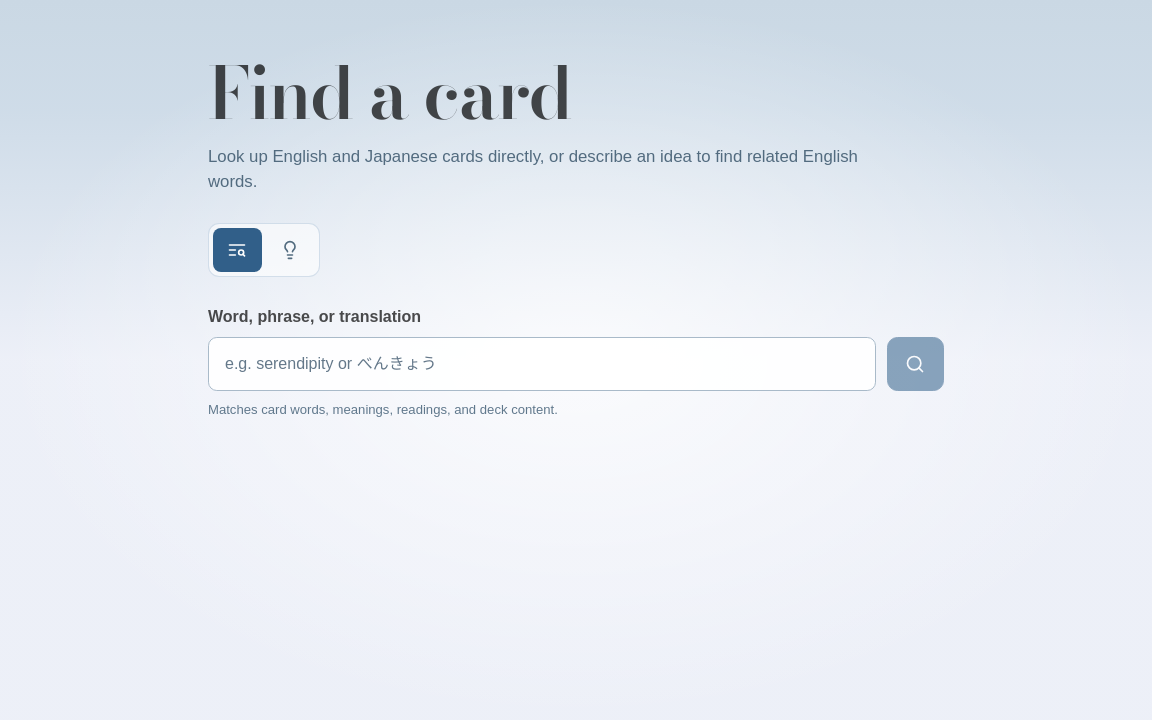
Search page › defaults to multilingual keyword search and labels Japanese results
This screenshot has width=1152, height=720.
Step 1. Type "benkyou" into the field labelled "Word, phrase, or translation" → (542, 364), box [208,336,876,391]
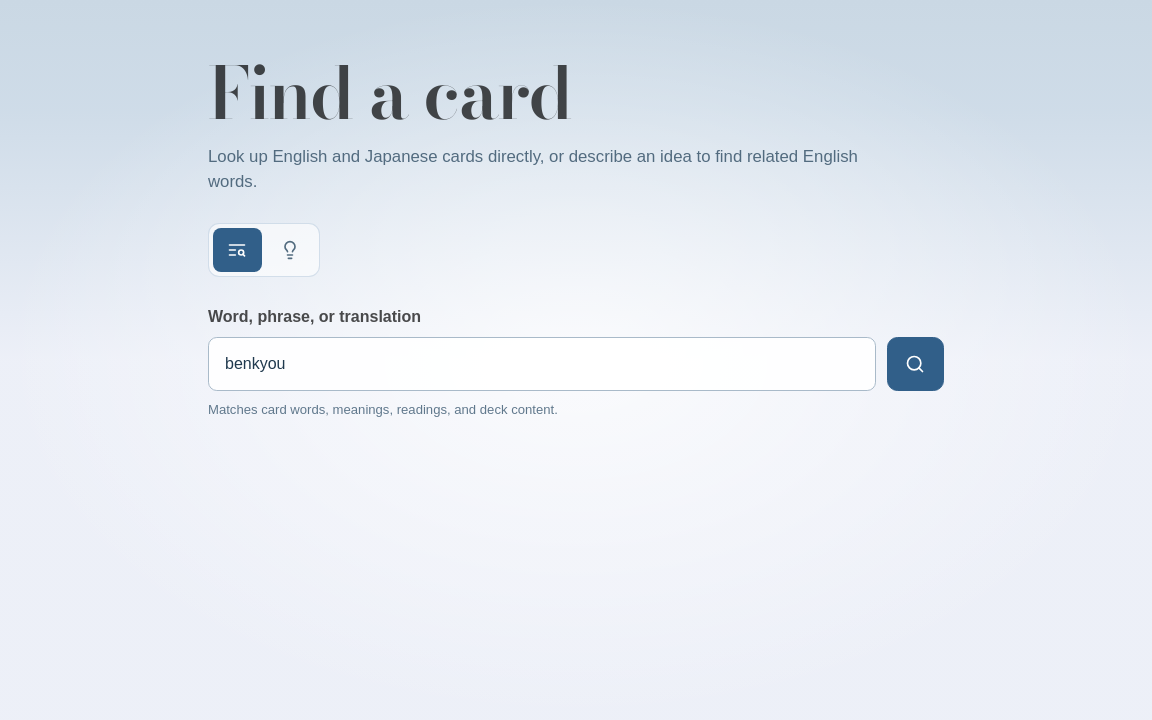
Step 2. Click the button named "Search cards" → (915, 364), box [887,336,944,391]
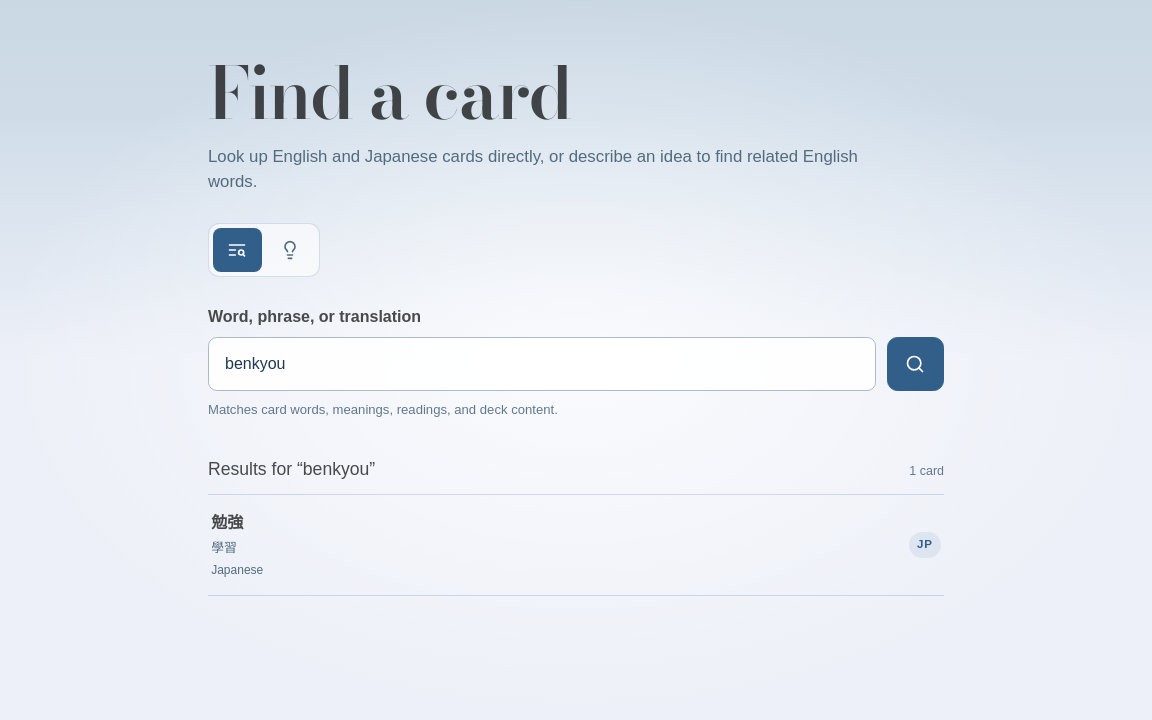
Result: the text "勉強" is shown at [211,514,243,531]
Result: the text "JP" is shown at [909,532,941,558]
